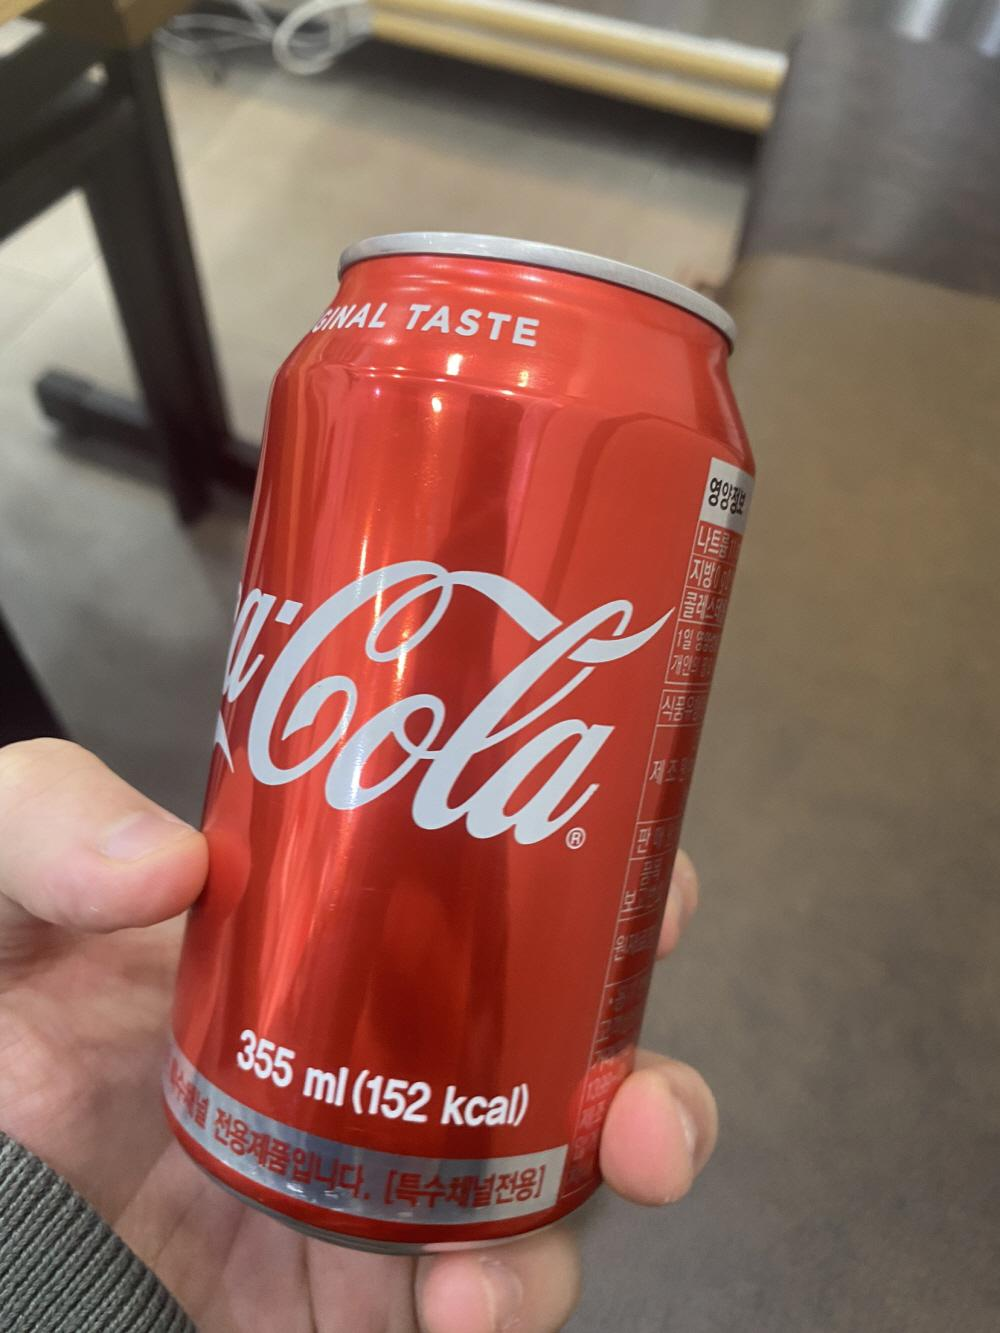cocacola: (161, 207, 765, 1262)
